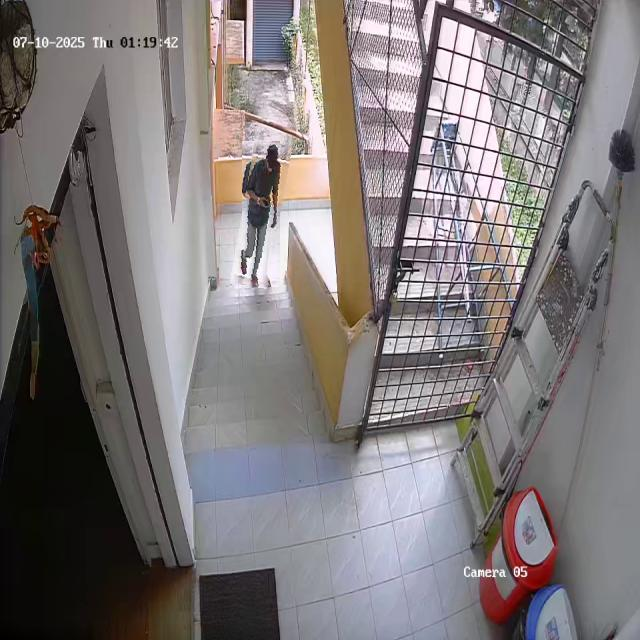person: (236, 140, 286, 288)
